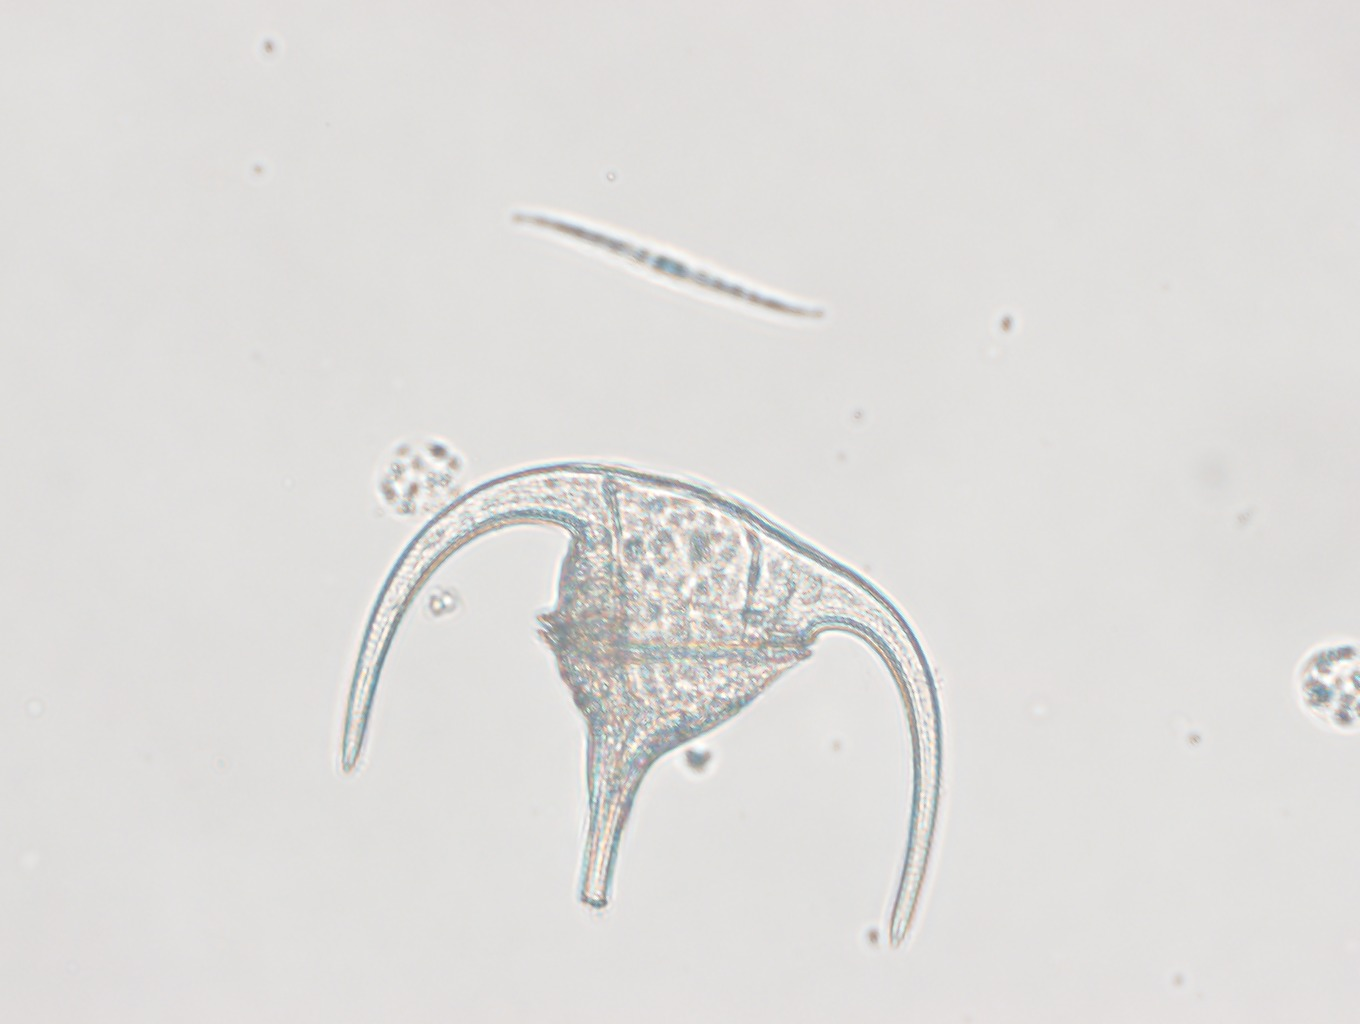ceratium tripos: (340, 460, 941, 951)
pleurosigma pelagicum: (507, 212, 830, 322)
